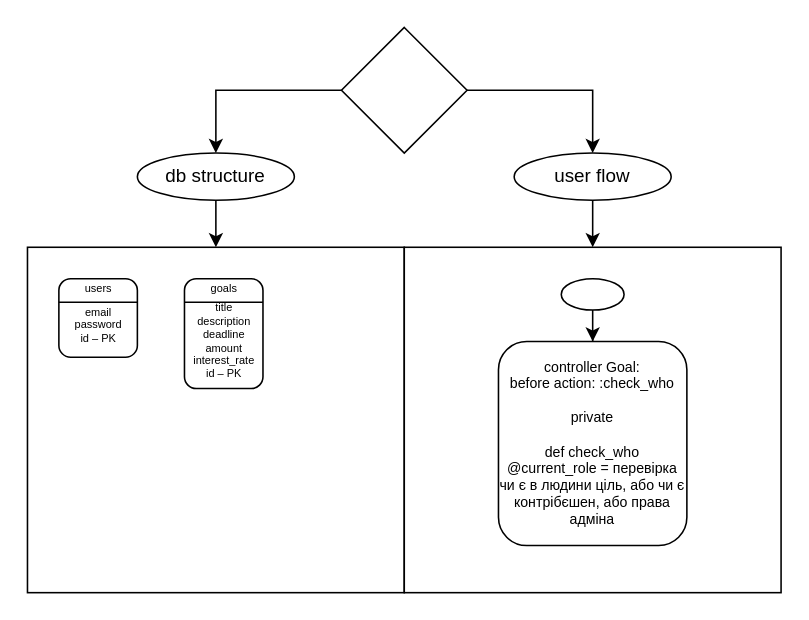
Some shapes in this 809 by 620 pixel diagram are drawn without their labels. The centre of each missing label's shape, as x and y in pixels:
"inner peace" belongs at (x=403, y=89).
"login" belongs at (x=592, y=293).
